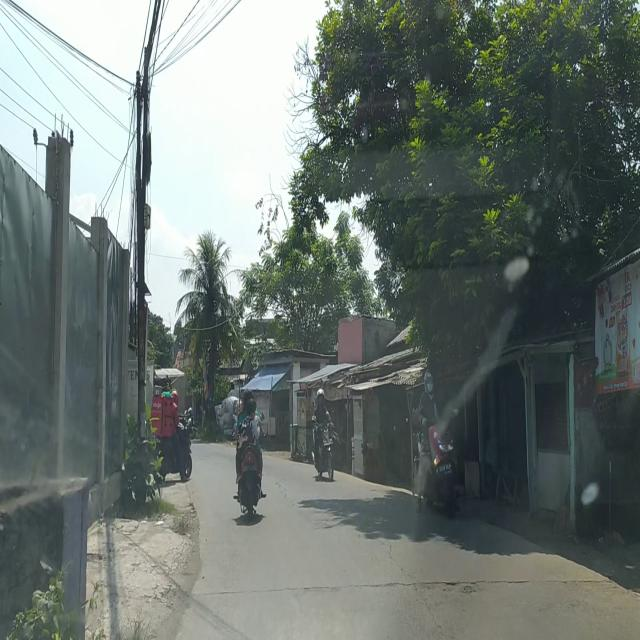Sewer Cover: (268, 580, 624, 592)
